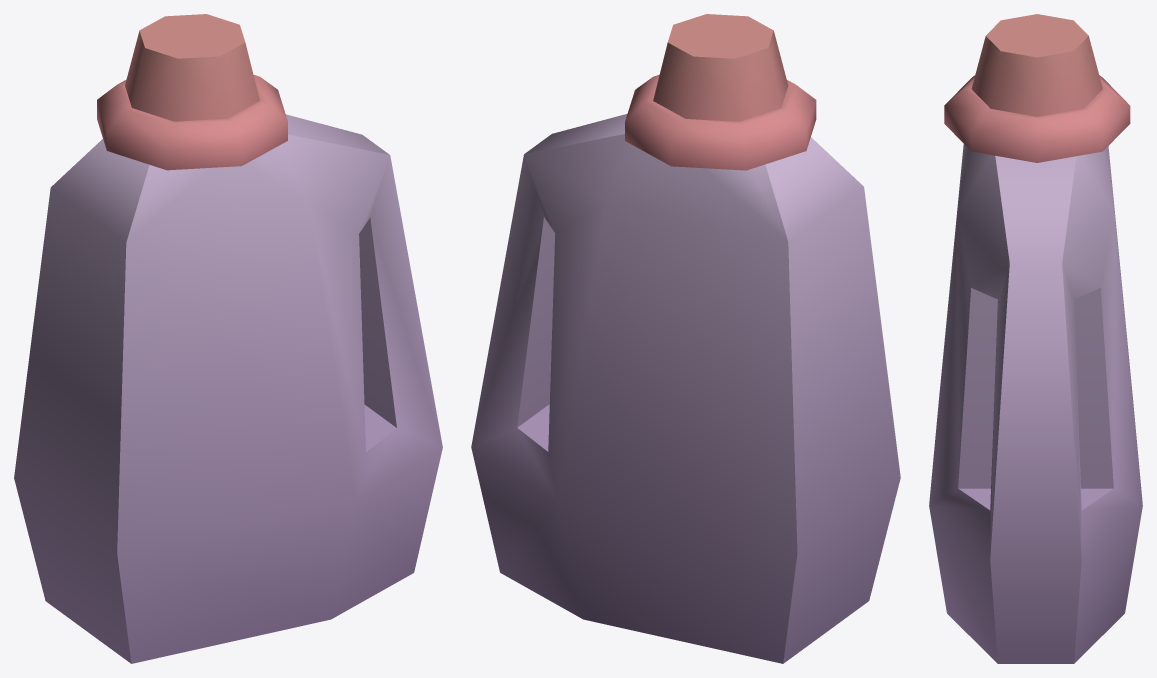
Rendered from laundry-detergent.glb.
The picture shows the model from 3 angles, left to right: view 1: azimuth 30°, elevation 25°; view 2: azimuth 150°, elevation 25°; view 3: azimuth 270°, elevation 25°; orthographic projection. The views are drawn at different scales.
Parts seen in each view (by area): view 1: laundry-detergent; view 2: laundry-detergent; view 3: laundry-detergent.
Part boxes in pixels (bbox=[...]): laundry-detergent: bbox=[14, 14, 442, 663]; laundry-detergent: bbox=[471, 14, 900, 663]; laundry-detergent: bbox=[929, 14, 1142, 663].
Size of the model in its own units: 0.2117 by 0.3267 by 0.1181.
